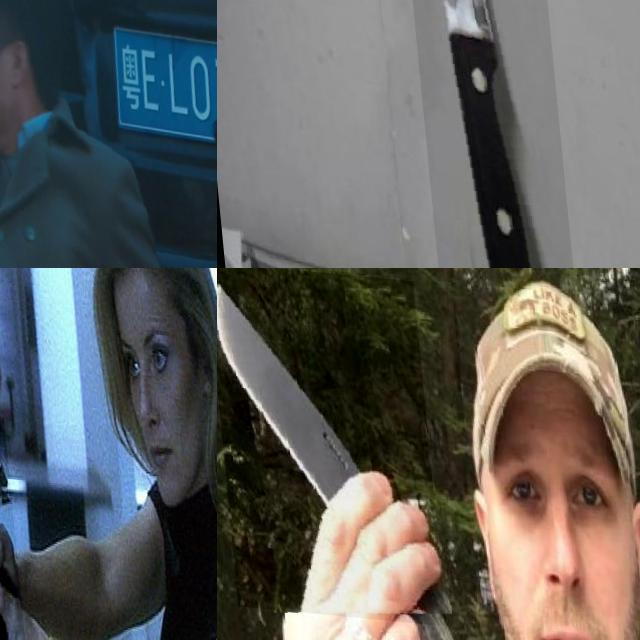-: (217, 268, 438, 621), (389, 0, 572, 268)
gun-knife-thesis - v11 Yolov5 augmented: (0, 396, 99, 640), (0, 197, 38, 268)
